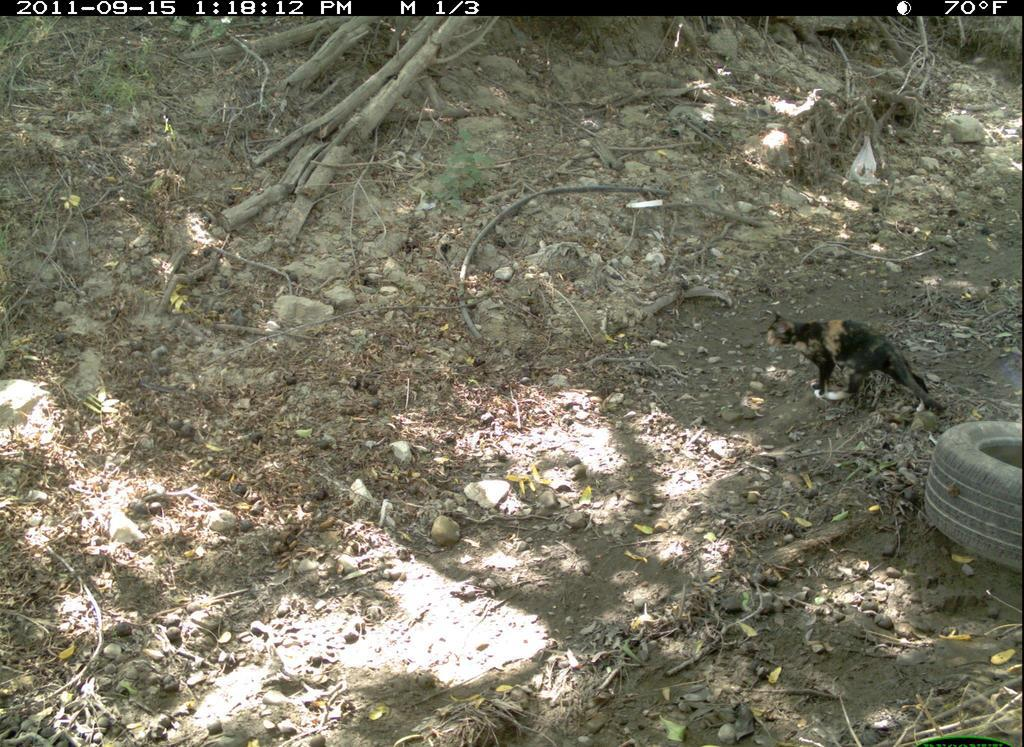cat: (753, 298, 954, 425)
